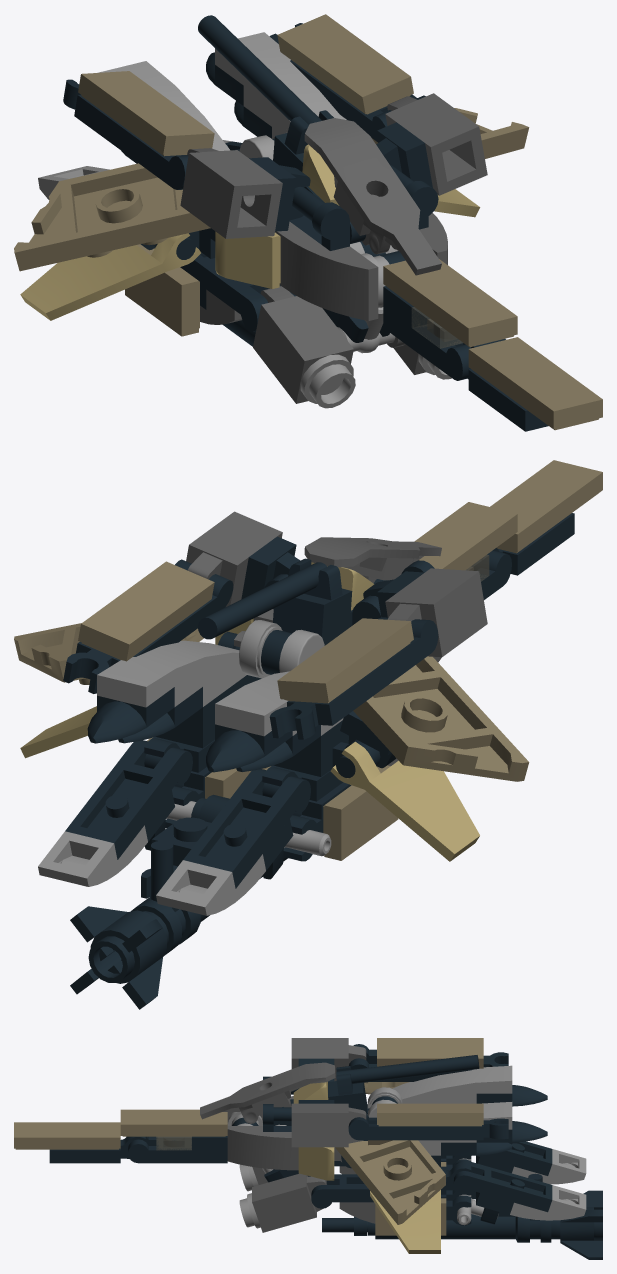
File: mvf-01d-sandstorm-fighter.dae
The picture shows the model from 3 angles, top to bottom: view 1: azimuth 30°, elevation 25°; view 2: azimuth 150°, elevation 25°; view 3: azimuth 270°, elevation 25°; orthographic projection. The views are drawn at different scales.
Size of the model in its own units: 209 by 331 by 121.
